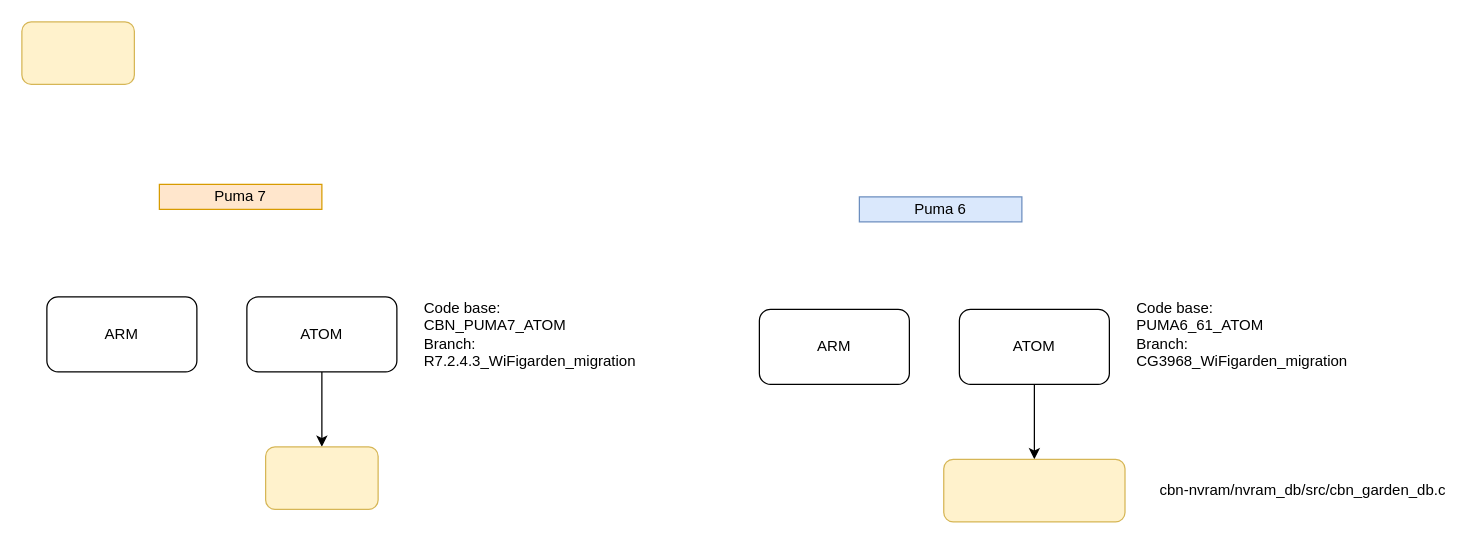
Some shapes in this 1481 by 544 pixel diagram are drawn without their labels. Each missing label, with the centre of its shape:
"CbnGardenDb_Entry" belongs at point (1033, 490).
"DB" belongs at point (77, 52).
"syscfg" belongs at point (321, 477).
